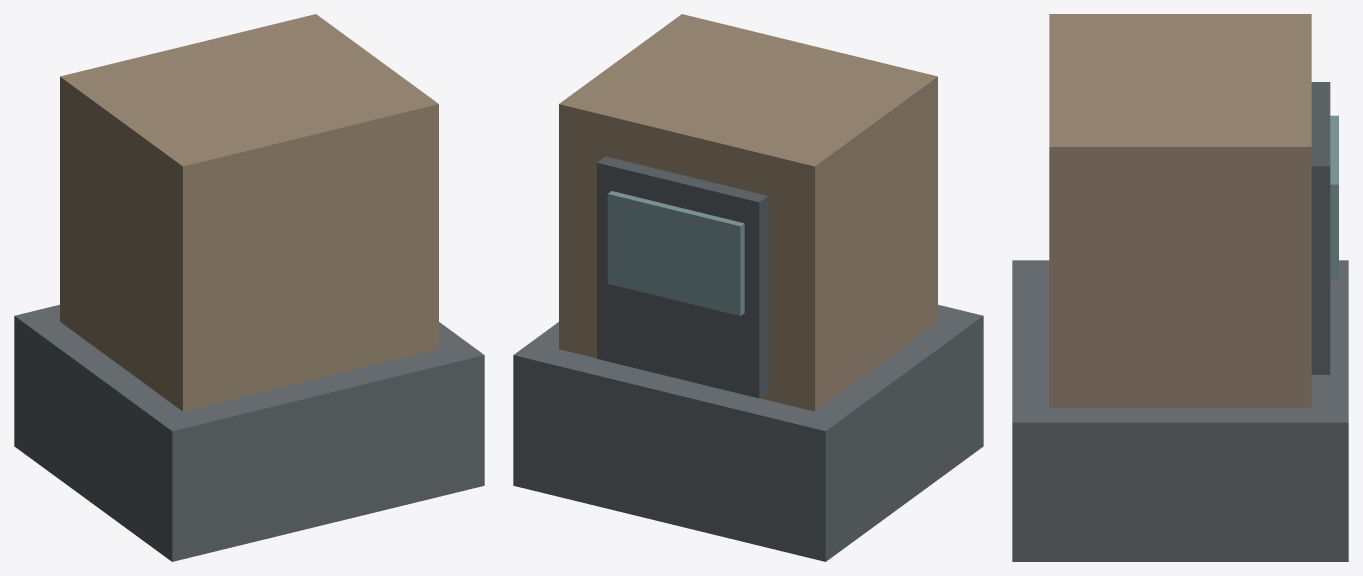
The model's file is iz3_production_anvil_02.glb.
3 views of the same model, side by side, from view 1: azimuth 30°, elevation 25°; view 2: azimuth 150°, elevation 25°; view 3: azimuth 270°, elevation 25° (orthographic). The views are drawn at different scales.
Parts seen in each view (by area): view 1: cabinet, base; view 2: cabinet, base, panel, display; view 3: cabinet, base, panel, display.
Part boxes in pixels (box(x1,y1,x2,y2)): cabinet: box(60, 14, 438, 411); base: box(14, 304, 484, 561); cabinet: box(559, 14, 937, 411); base: box(513, 304, 983, 561); panel: box(597, 156, 768, 398); display: box(607, 191, 744, 315); cabinet: box(1049, 14, 1311, 407); base: box(1012, 260, 1348, 561); panel: box(1311, 82, 1330, 374); display: box(1330, 115, 1338, 280).
Bounding box in the file's own units: 0.8 × 0.92 × 0.7.
